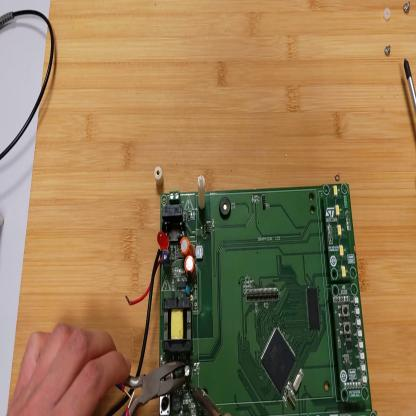hand: (8, 320, 128, 416)
low voltage board: (126, 177, 378, 416)
oscilloscope probe tip: (2, 13, 14, 29)
pliers: (119, 361, 191, 413)
screwdriver-: (406, 55, 416, 114)
welder probe tip: (190, 383, 222, 415)
working area: (9, 1, 416, 415)
